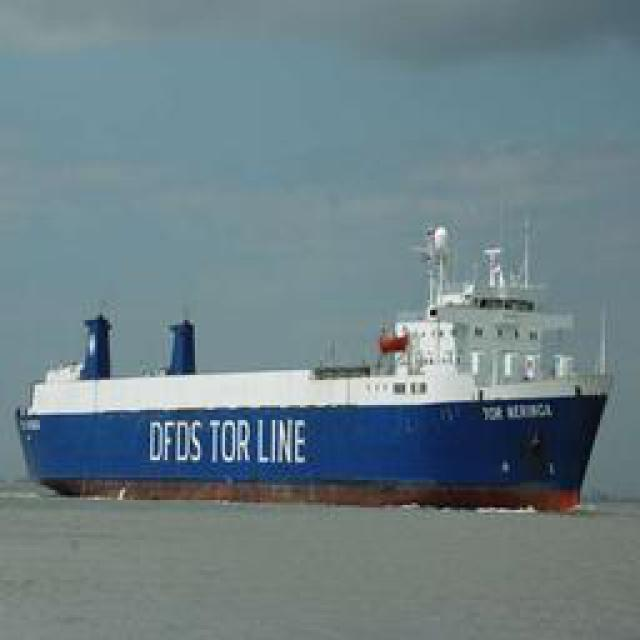Ship: (17, 220, 615, 510)
